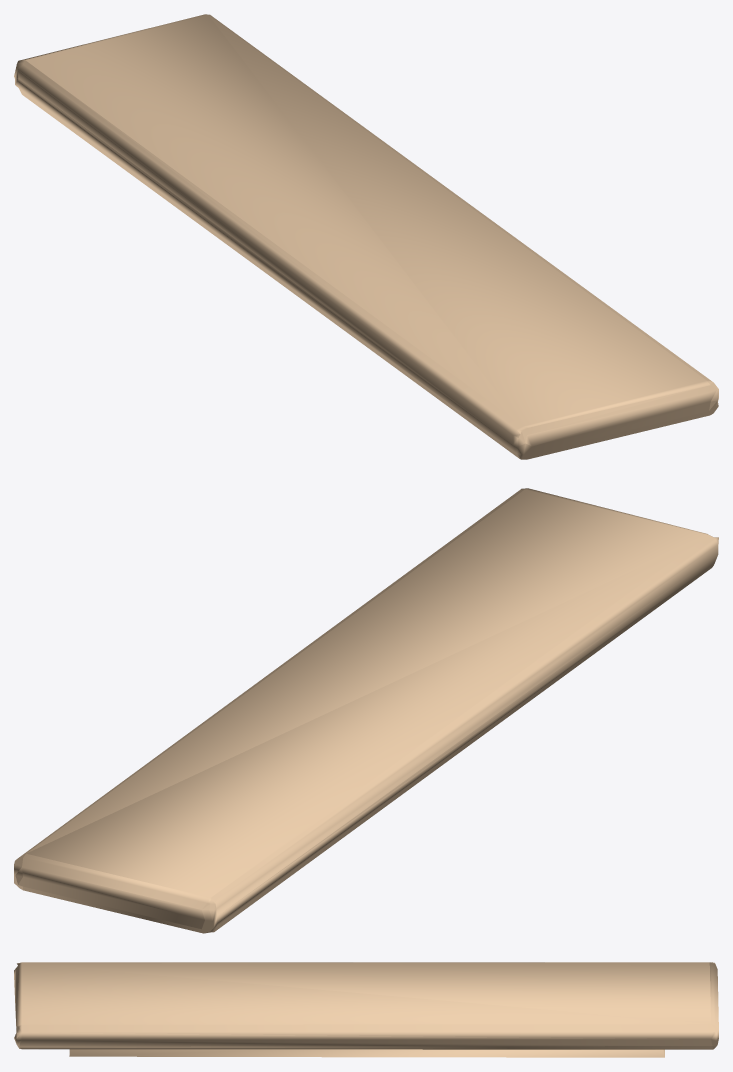
The model's file is bath_tray.glb.
3 renders of one model, top to bottom at view 1: azimuth 30°, elevation 25°; view 2: azimuth 150°, elevation 25°; view 3: azimuth 270°, elevation 25°, orthographic. The views are drawn at different scales.
Size of the model in its own units: 0.35 by 0.0775 by 1.52.
